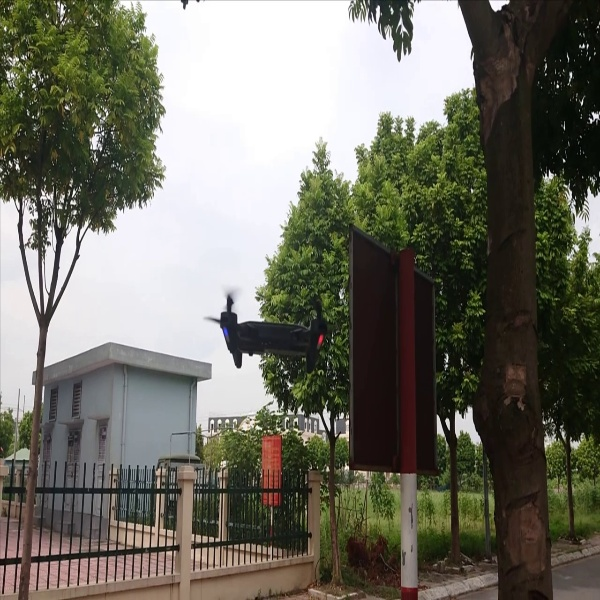drone: (193, 282, 336, 372)
